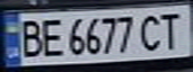6: (63, 15, 87, 56), (84, 14, 103, 56)
7: (115, 12, 139, 54), (100, 14, 121, 54)
B: (15, 16, 45, 58)
C: (136, 11, 166, 52)
E: (36, 16, 66, 58)
T: (154, 9, 187, 50)
